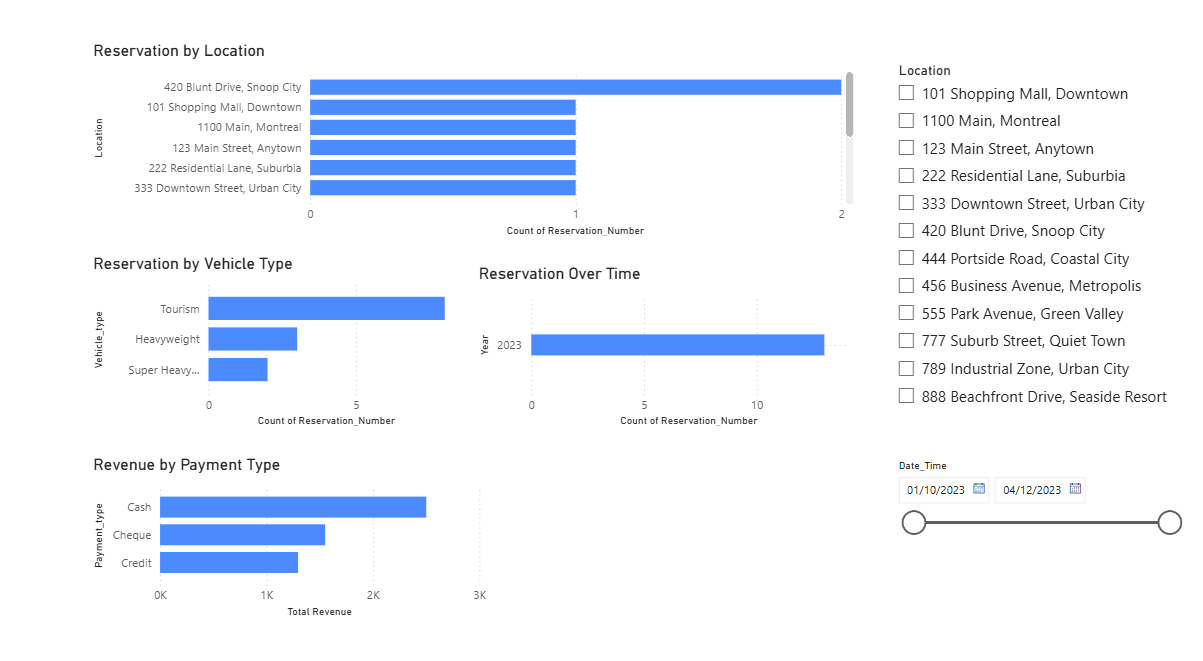

Layout of this report page (visuals, bound fields, positions):
{"tool":"powerbi","page":{"name":"Reservation Analytics","canvas":[1280,720],"ordinal":2},"visuals":[{"type":"clusteredBarChart","title":"Reservation by Location","fields":{"Category":["Reservation.Location"],"Y":["CountNonNull(Reservation.Reservation_Number)"]},"box":[102.6,58.4,810,210],"z":0},{"type":"clusteredBarChart","title":"Reservation by Vehicle Type","fields":{"Category":["Vehicle.Vehicle_type"],"Y":["CountNonNull(Reservation.Reservation_Number)"]},"box":[102.6,282.6,383.7,186.3],"z":1},{"type":"clusteredBarChart","title":"Reservation Over Time","fields":{"Category":["Reservation.Date_Time.Variation.Date Hierarchy.Year","Reservation.Date_Time.Variation.Date Hierarchy.Quarter","Reservation.Date_Time.Variation.Date Hierarchy.Month","Reservation.Date_Time.Variation.Date Hierarchy.Day"],"Y":["CountNonNull(Reservation.Reservation_Number)"]},"box":[508.4,293.7,404.2,175.3],"z":2},{"type":"clusteredBarChart","title":"Revenue by Payment Type","fields":{"Category":["Bill.Payment_type"],"Y":["Bill.Total Revenue"]},"box":[102.6,494.2,423.2,175.3],"z":3},{"type":"slicer","fields":{"Values":["Reservation.Location"]},"box":[942.6,75.8,319,393.2],"z":4},{"type":"slicer","fields":{"Values":["Reservation.Date_Time"]},"box":[942.6,494.2,319,107.4],"z":5}]}

Visuals, with their boxes in screenshot pixels (x1, y1, x2, y2), scaled from the page's 1280x720 canvas onto the 1203x661 screenshot:
"Reservation by Location" clusteredBarChart: 96:54:858:246
"Reservation by Vehicle Type" clusteredBarChart: 96:259:457:430
"Reservation Over Time" clusteredBarChart: 478:270:858:431
"Revenue by Payment Type" clusteredBarChart: 96:454:494:615
slicer - Reservation.Location: 886:70:1186:431
slicer - Reservation.Date_Time: 886:454:1186:552
